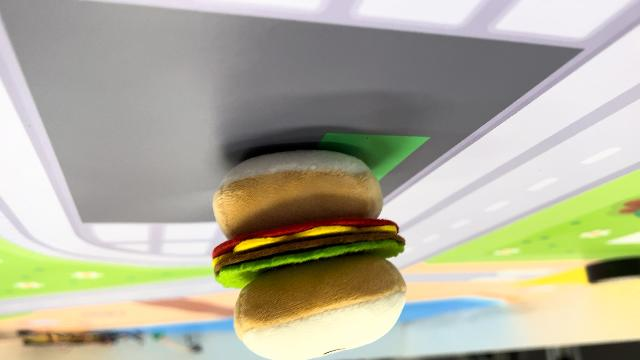sandwich: (207, 145, 411, 356)
